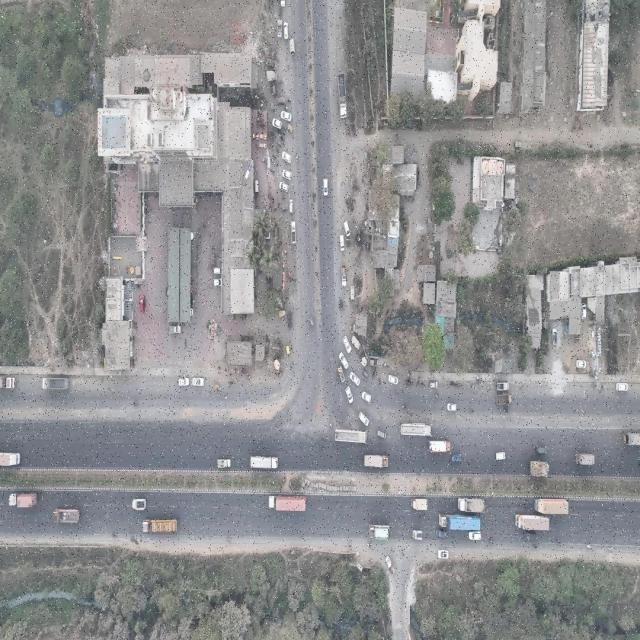3W: (337, 298, 345, 312), (308, 315, 316, 329), (361, 368, 370, 380), (288, 317, 294, 332), (286, 342, 292, 357), (286, 309, 294, 320), (318, 438, 326, 448), (287, 122, 294, 133), (278, 310, 286, 317)
Bus: (400, 419, 433, 439), (335, 426, 367, 446)
Cars: (271, 118, 285, 134), (342, 333, 352, 355), (338, 351, 349, 369), (281, 148, 293, 164), (358, 409, 369, 426), (192, 374, 205, 388), (387, 372, 399, 387), (467, 531, 482, 543), (345, 384, 354, 404), (522, 530, 538, 541), (338, 233, 346, 254), (281, 168, 293, 182), (322, 176, 329, 199), (280, 109, 292, 122), (615, 382, 628, 394), (536, 443, 549, 455), (450, 452, 462, 465), (177, 375, 190, 387), (349, 372, 361, 385), (139, 294, 146, 315), (343, 222, 351, 240), (438, 548, 450, 560), (360, 390, 372, 402), (552, 325, 558, 348), (278, 180, 289, 192), (283, 22, 289, 42), (447, 401, 457, 413), (494, 452, 506, 462), (434, 528, 446, 538), (581, 302, 587, 321), (575, 359, 586, 369), (376, 429, 387, 439), (288, 197, 294, 215), (276, 95, 286, 105), (429, 380, 439, 390), (213, 266, 223, 276), (212, 278, 222, 287)
LCV: (384, 554, 396, 576), (335, 365, 346, 385), (130, 498, 148, 510), (166, 324, 182, 336), (340, 264, 348, 288), (290, 220, 297, 246), (216, 459, 232, 470), (496, 381, 510, 392), (412, 528, 424, 540), (289, 38, 296, 57), (276, 18, 282, 39)
M2W: (400, 547, 406, 559), (366, 541, 375, 548), (488, 538, 495, 546), (531, 544, 539, 551), (554, 538, 562, 545), (585, 544, 594, 550), (133, 399, 140, 406), (347, 541, 353, 549), (290, 361, 295, 370), (295, 152, 299, 162), (608, 547, 616, 552), (502, 408, 510, 413), (294, 275, 297, 288), (469, 407, 475, 413), (401, 405, 408, 410), (329, 422, 334, 429), (391, 546, 395, 554), (324, 109, 327, 119), (434, 392, 439, 398), (298, 49, 300, 59)
MAV: (436, 515, 480, 533)
Truck: (514, 512, 552, 531), (267, 494, 307, 512), (534, 496, 570, 516), (455, 495, 487, 514), (336, 71, 348, 120), (51, 508, 81, 526), (141, 519, 177, 534), (249, 454, 280, 471), (8, 493, 38, 510), (364, 452, 389, 472), (41, 376, 69, 392), (427, 436, 451, 454), (529, 460, 550, 477), (574, 450, 595, 467), (368, 524, 391, 539), (410, 496, 429, 511), (495, 391, 514, 405)
